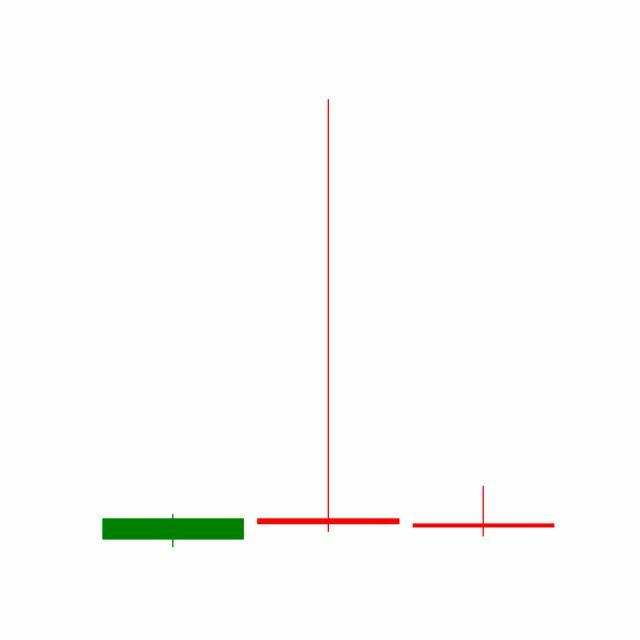Gravestone Doji: (406, 485, 562, 538)
